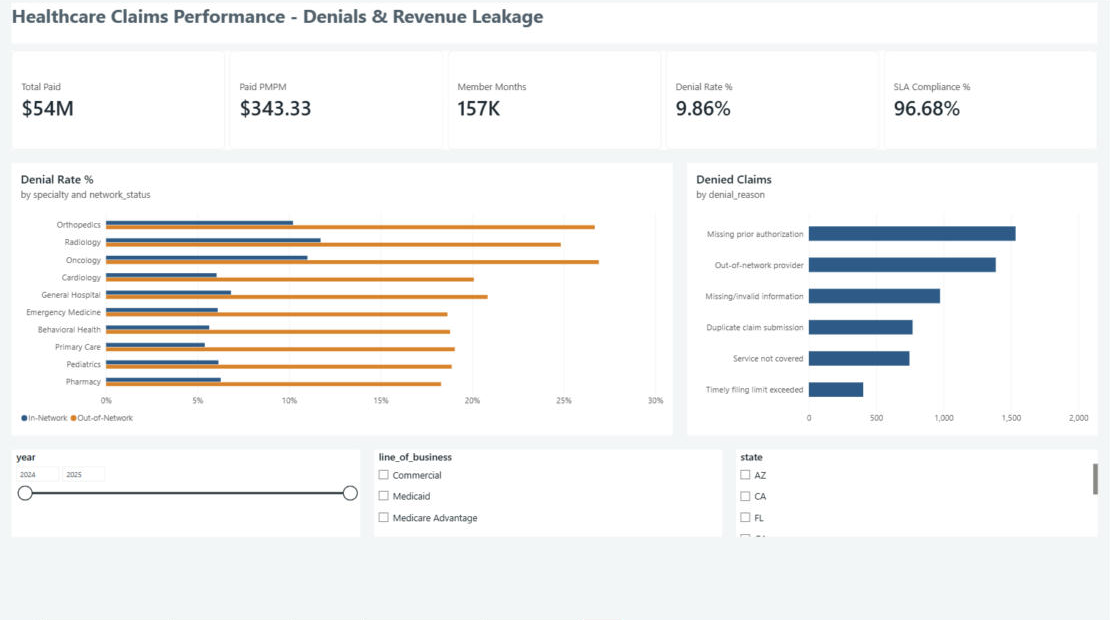

Layout of this report page (visuals, bound fields, positions):
{"tool":"powerbi","page":{"name":"Denials","canvas":[1920,1080],"ordinal":2},"visuals":[{"type":"cardVisual","fields":{"Data":["_Measures.Total Paid","_Measures.Paid PMPM","_Measures.Member Months","_Measures.Denial Rate %","_Measures.SLA Compliance %"]},"box":[24,96,1872,170],"z":0},{"type":"slicer","fields":{"Values":["dim_date.year"]},"box":[24,784,600,150],"z":3000},{"type":"slicer","fields":{"Values":["dim_plan.line_of_business"]},"box":[648,784,600,150],"z":4000},{"type":"slicer","fields":{"Values":["dim_member.state"]},"box":[1272,784,624,150],"z":5000},{"type":"textbox","box":[24,14,1872,70],"z":6000},{"type":"clusteredBarChart","fields":{"Category":["dim_provider.specialty"],"Series":["dim_provider.network_status"],"Y":["_Measures.Denial Rate %"]},"box":[24,290,1140,470],"z":6001},{"type":"clusteredBarChart","fields":{"Category":["fact_claims.denial_reason"],"Y":["_Measures.Denied Claims"]},"box":[1188,290,708,470],"z":6002}]}

Visuals, with their boxes in screenshot pixels (x1, y1, x2, y2), scaled from the page's 1920x1080 canvas onto the 1110x620 screenshot:
cardVisual - _Measures.Total Paid x _Measures.Paid PMPM: [left=14, top=55, right=1096, bottom=153]
slicer - dim_date.year: [left=14, top=450, right=361, bottom=536]
slicer - dim_plan.line_of_business: [left=375, top=450, right=722, bottom=536]
slicer - dim_member.state: [left=735, top=450, right=1096, bottom=536]
textbox: [left=14, top=8, right=1096, bottom=48]
clusteredBarChart - dim_provider.specialty x dim_provider.network_status: [left=14, top=166, right=673, bottom=436]
clusteredBarChart - fact_claims.denial_reason x _Measures.Denied Claims: [left=687, top=166, right=1096, bottom=436]
